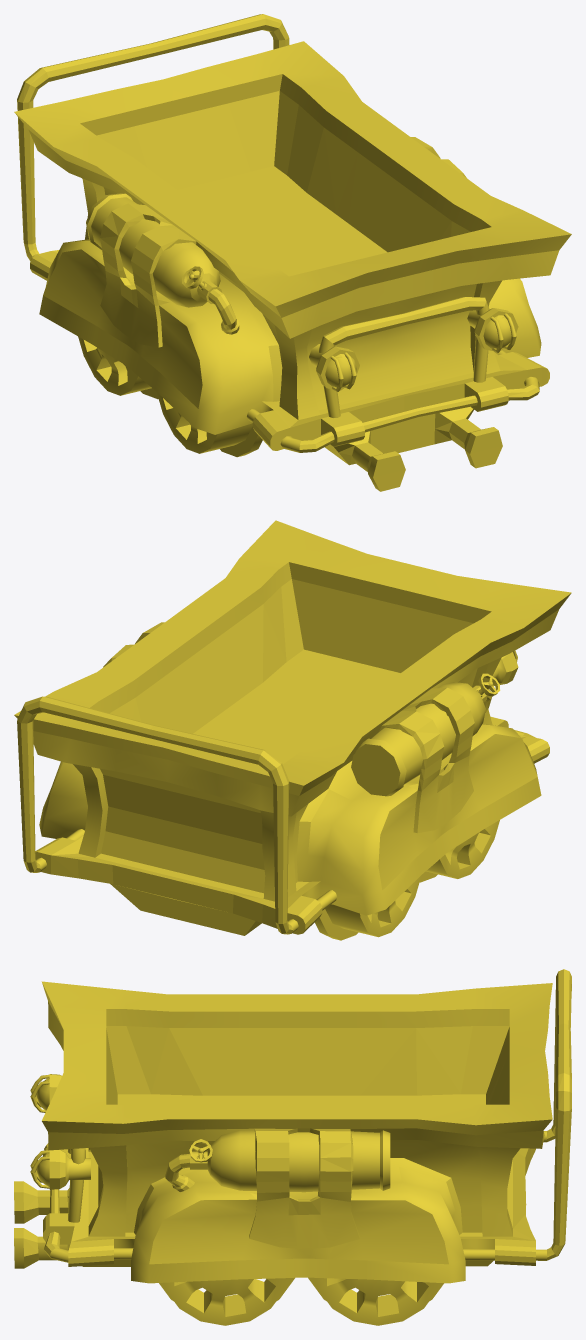
Rendered from Wózek.fbx.
3 views of the same model, one above another, from view 1: azimuth 30°, elevation 25°; view 2: azimuth 150°, elevation 25°; view 3: azimuth 270°, elevation 25° (orthographic). The views are drawn at different scales.
Parts seen in each view (by area): view 1: Wuzek_low, Koło_low, Koło_low001; view 2: Wuzek_low, Koło_low001, Koło_low; view 3: Wuzek_low, Koło_low001, Koło_low.
Part boxes in pixels (bbox=[...]): Wuzek_low: bbox=[14, 14, 571, 491]; Koło_low: bbox=[156, 392, 262, 457]; Koło_low001: bbox=[78, 336, 158, 399]; Wuzek_low: bbox=[14, 520, 571, 935]; Koło_low001: bbox=[315, 875, 421, 940]; Koło_low: bbox=[419, 820, 499, 882]; Wuzek_low: bbox=[14, 969, 571, 1283]; Koło_low001: bbox=[308, 1277, 443, 1325]; Koło_low: bbox=[159, 1277, 294, 1325].
Bounding box in the file's own units: 163 × 115 × 236.
